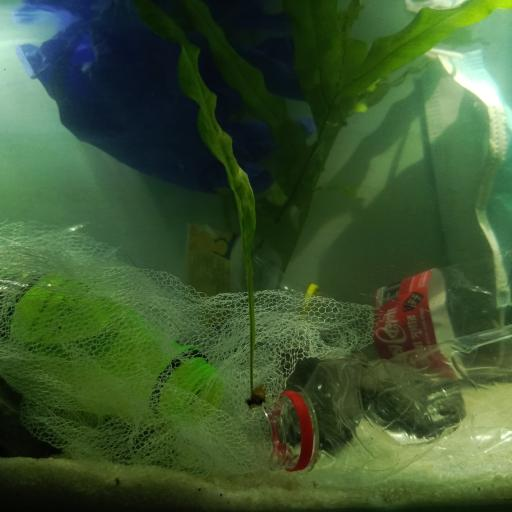glove: (16, 18, 329, 198)
mask: (420, 48, 512, 310)
net: (64, 224, 390, 478)
plastic_bottle: (243, 325, 512, 483), (64, 263, 225, 429), (107, 216, 327, 322), (339, 250, 512, 381)
